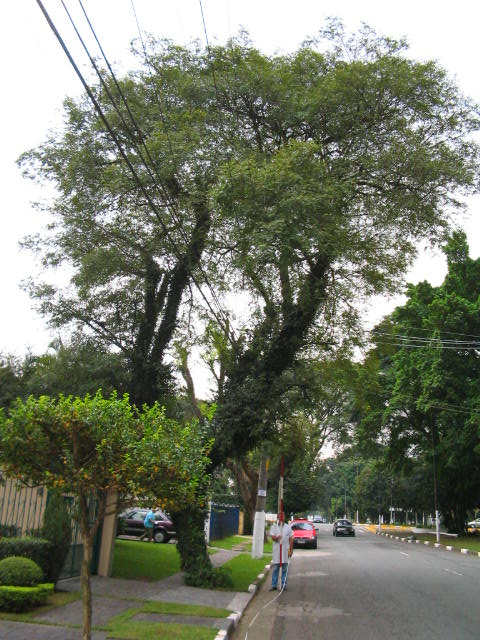crown: (19, 15, 478, 362), (3, 394, 210, 522)
stem: (153, 468, 235, 589), (70, 536, 107, 637)
stick: (267, 452, 290, 591)
tree: (17, 15, 480, 591), (2, 392, 212, 638)
